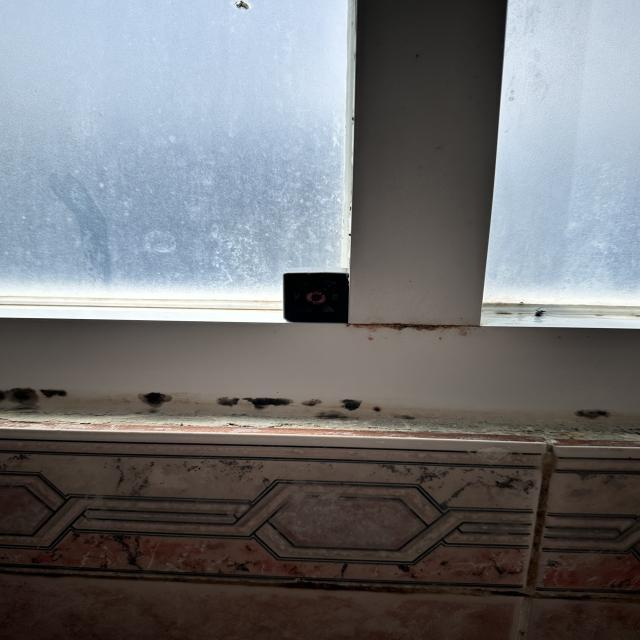hidden camera: (306, 290, 328, 305)
